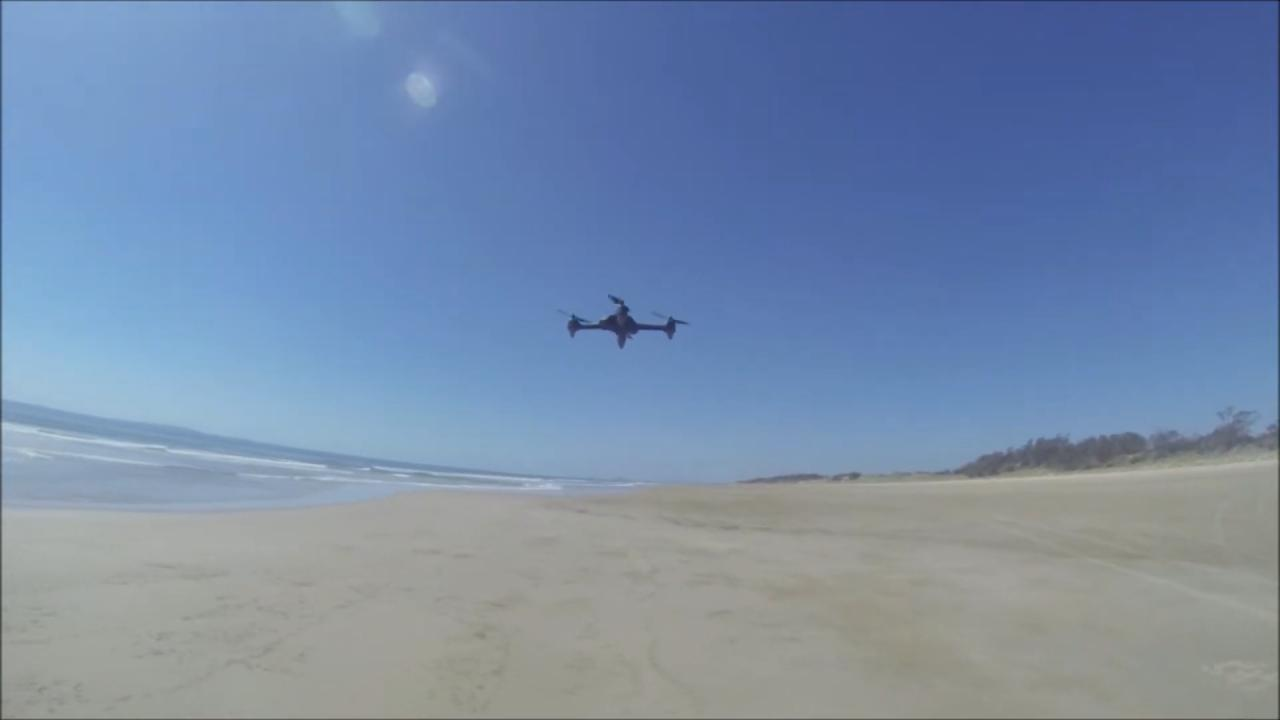Drone: (541, 272, 700, 369)
